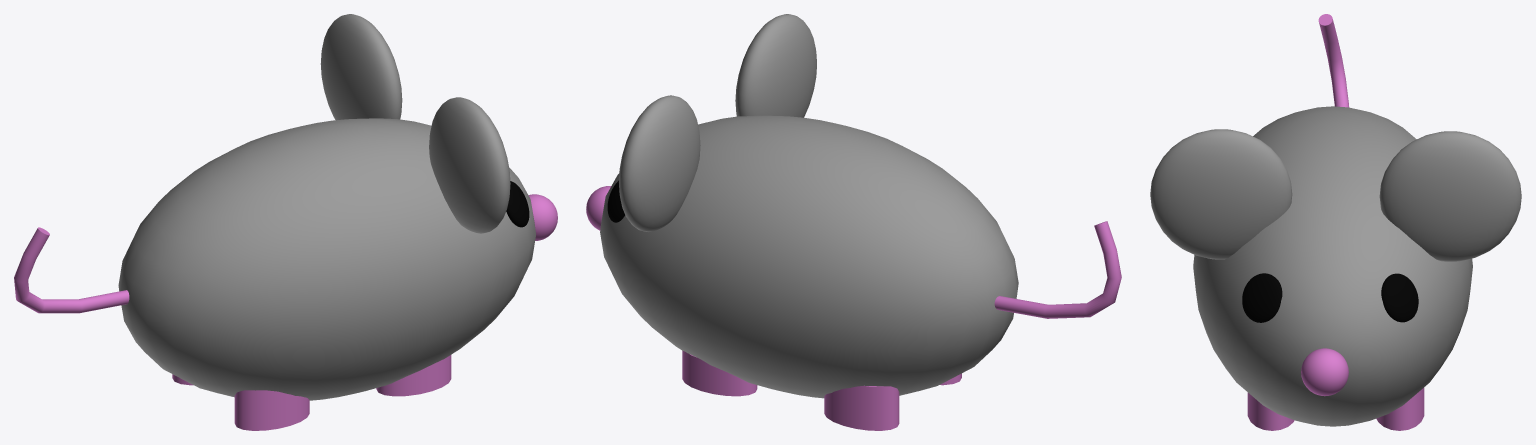
The model's file is Mouse.FBX.
3 renders of one model, left to right at view 1: azimuth 30°, elevation 25°; view 2: azimuth 150°, elevation 25°; view 3: azimuth 270°, elevation 25°, orthographic. The views are drawn at different scales.
Parts seen in each view (by area): view 1: MouseBody, MouseLeftEar, MouseRightEar, MouseTail, MouseLeg002, MouseLeg001, MouseNose, MouseLeftEye; view 2: MouseBody, MouseRightEar, MouseLeftEar, MouseLeg004, MouseTail, MouseLeg003, MouseNose; view 3: MouseBody, MouseRightEar, MouseLeftEar, MouseNose, MouseLeftEye, MouseRightEye, MouseTail, MouseLeg003, MouseLeg001.
Part boxes in pixels (box(x1,y1,x2,y2)): MouseBody: box(118, 118, 535, 400); MouseLeftEar: box(429, 97, 510, 233); MouseRightEar: box(320, 14, 402, 120); MouseTail: box(14, 227, 129, 313); MouseLeg002: box(234, 390, 309, 430); MouseLeg001: box(376, 355, 451, 396); MouseNose: box(528, 194, 557, 240); MouseLeftEye: box(506, 181, 529, 227); MouseBody: box(600, 115, 1018, 398); MouseRightEar: box(619, 95, 700, 231); MouseLeftEar: box(735, 14, 816, 117); MouseLeg004: box(824, 385, 899, 430); MouseTail: box(994, 221, 1121, 318); MouseLeg003: box(682, 350, 757, 396); MouseNose: box(586, 186, 611, 230); MouseBody: box(1193, 106, 1472, 426); MouseRightEar: box(1379, 131, 1521, 261); MouseLeftEar: box(1150, 129, 1292, 259); MouseNose: box(1301, 348, 1348, 396); MouseLeftEye: box(1242, 273, 1282, 322); MouseRightEye: box(1381, 273, 1418, 322); MouseTail: box(1318, 14, 1349, 107); MouseLeg003: box(1376, 387, 1424, 430); MouseLeg001: box(1247, 392, 1294, 430).
Size of the model in its own units: 19.3 by 10.36 by 11.36.
